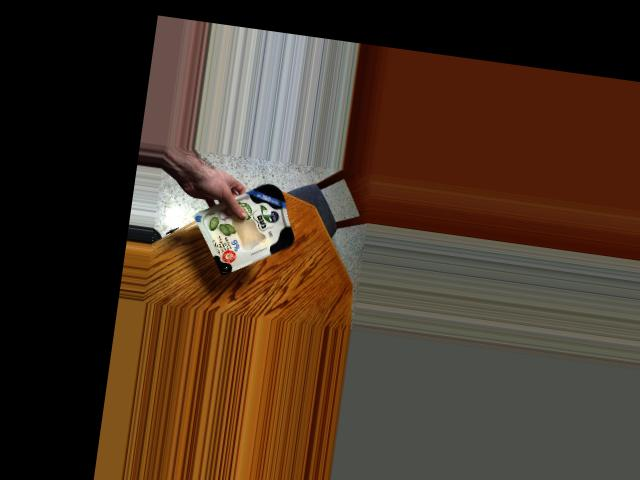cheese: (201, 176, 308, 276)
